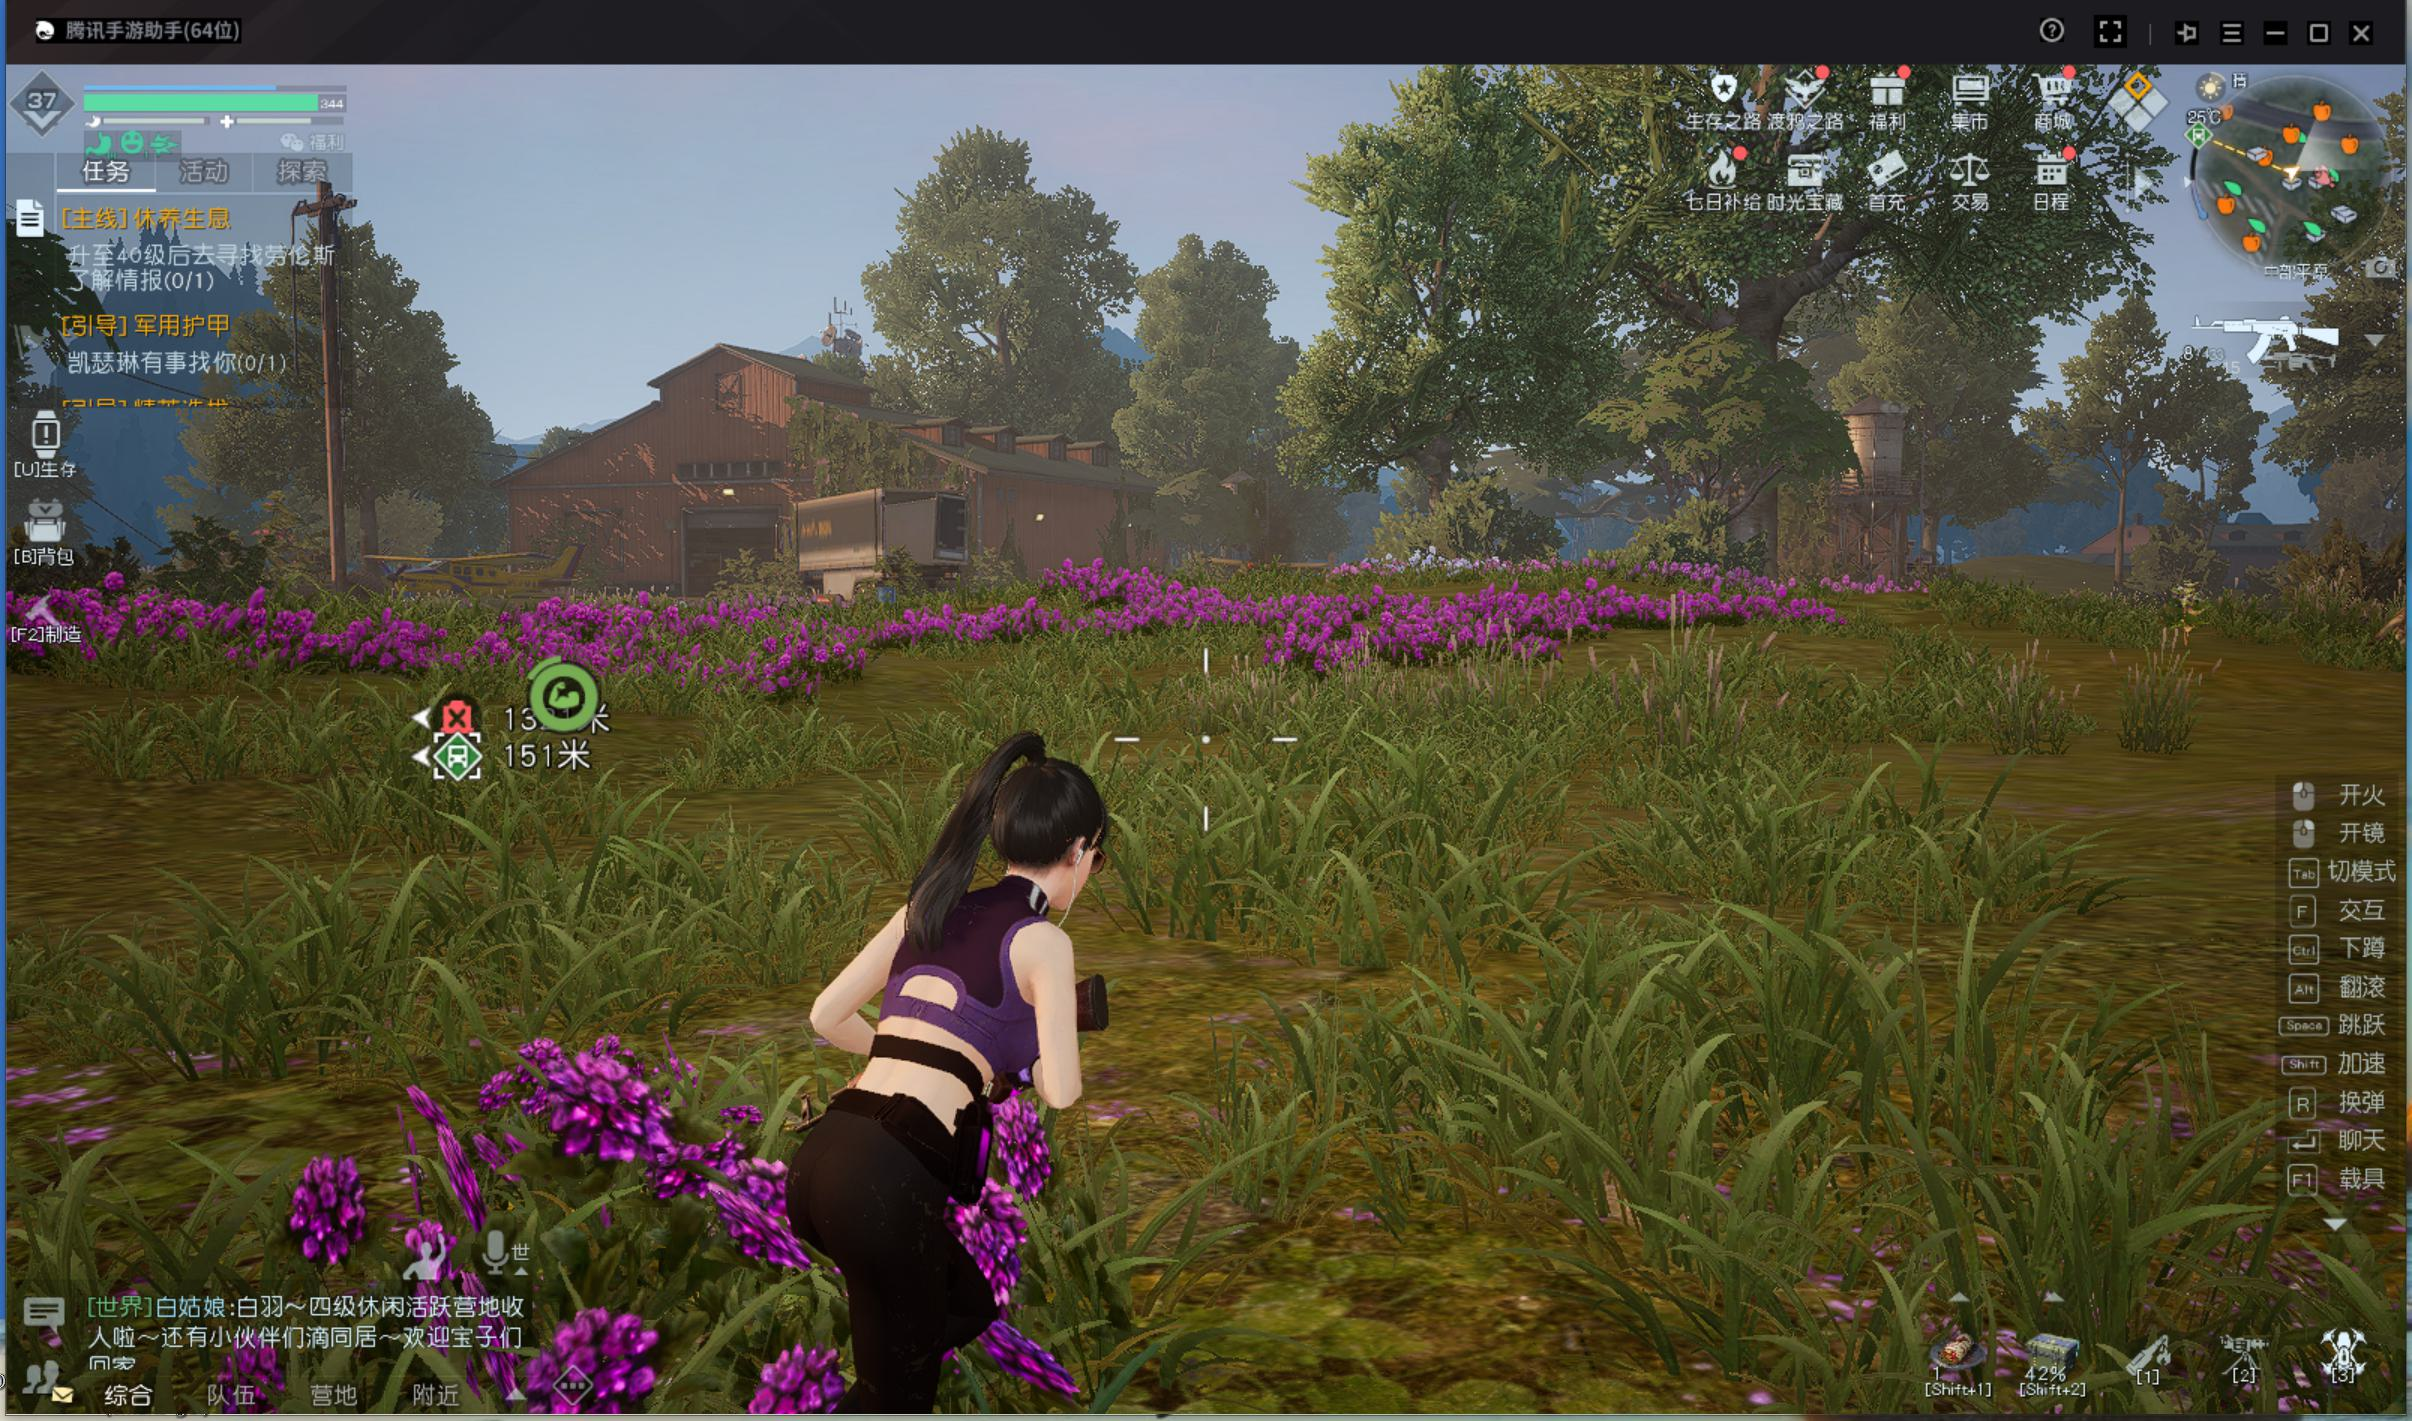tree: (1703, 342, 1791, 606)
